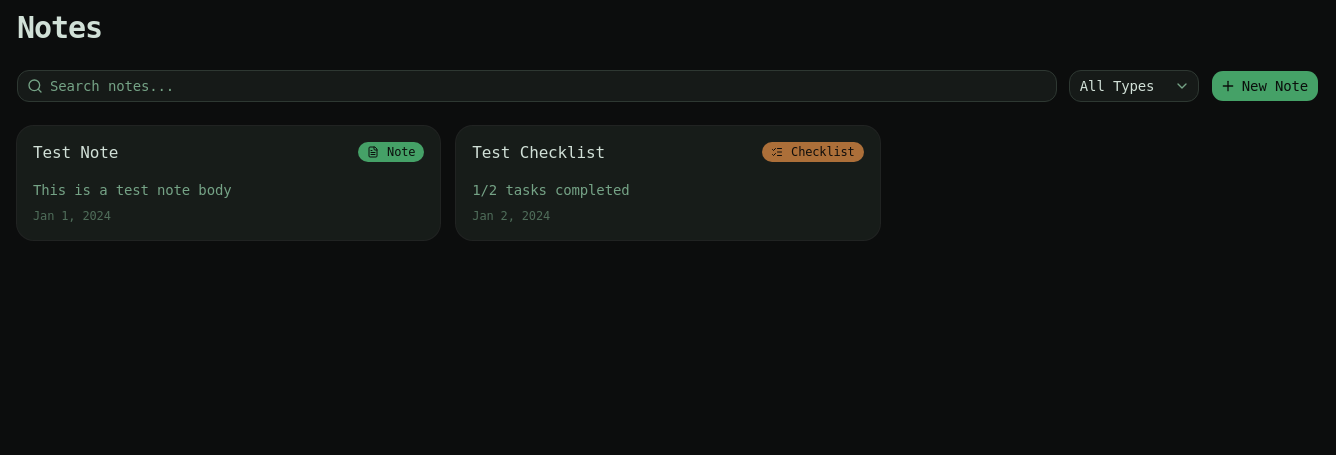
Test case: notes page — navigation and views › cancels from form back to list
Expected: the text "Test Note" is shown, top-left (33, 142), bottom-right (118, 164)
// Open create form
Click the button "New Note" at (1265, 86), box top-left (1211, 70), bottom-right (1319, 102)
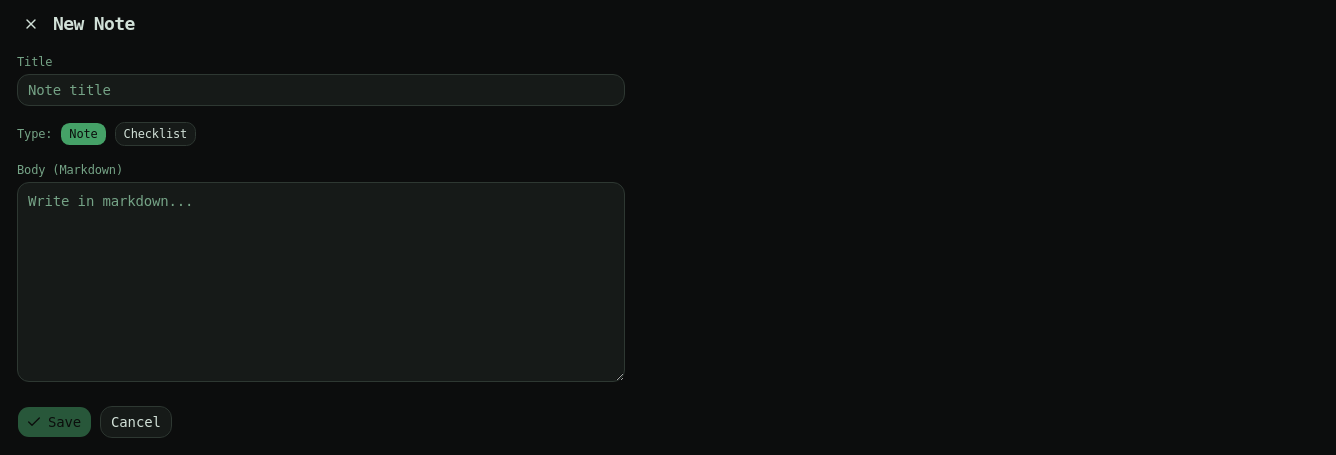
Now the field with placeholder "Note title" is shown, box top-left (17, 74), bottom-right (625, 106)
// Click Cancel
Click the button "Cancel" at (136, 422), box top-left (100, 406), bottom-right (172, 438)
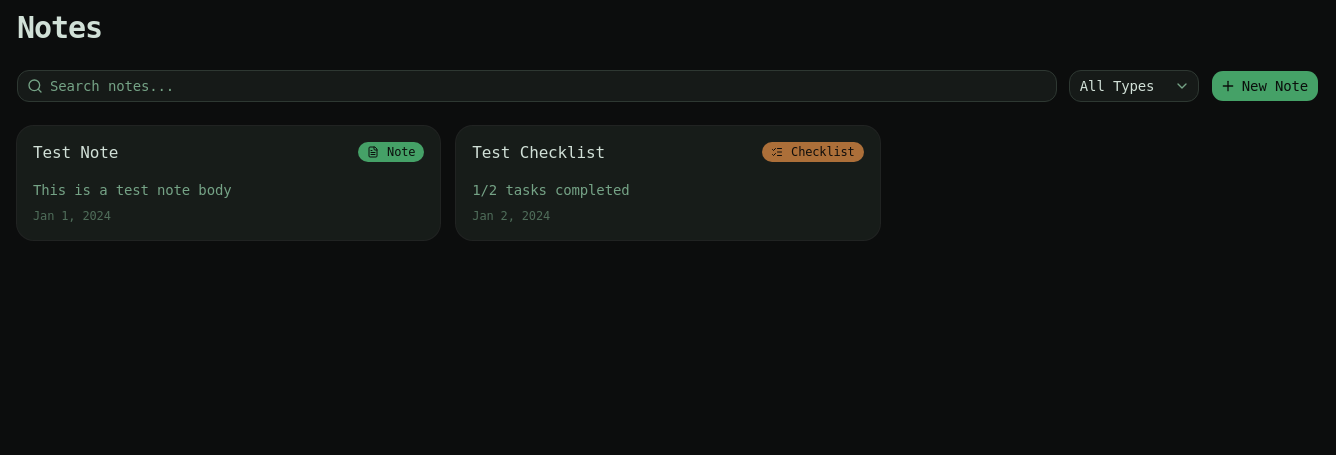
Now the text "Test Note" is shown, box top-left (33, 142), bottom-right (118, 164)
Now the text "Test Checklist" is shown, box top-left (472, 142), bottom-right (605, 164)
